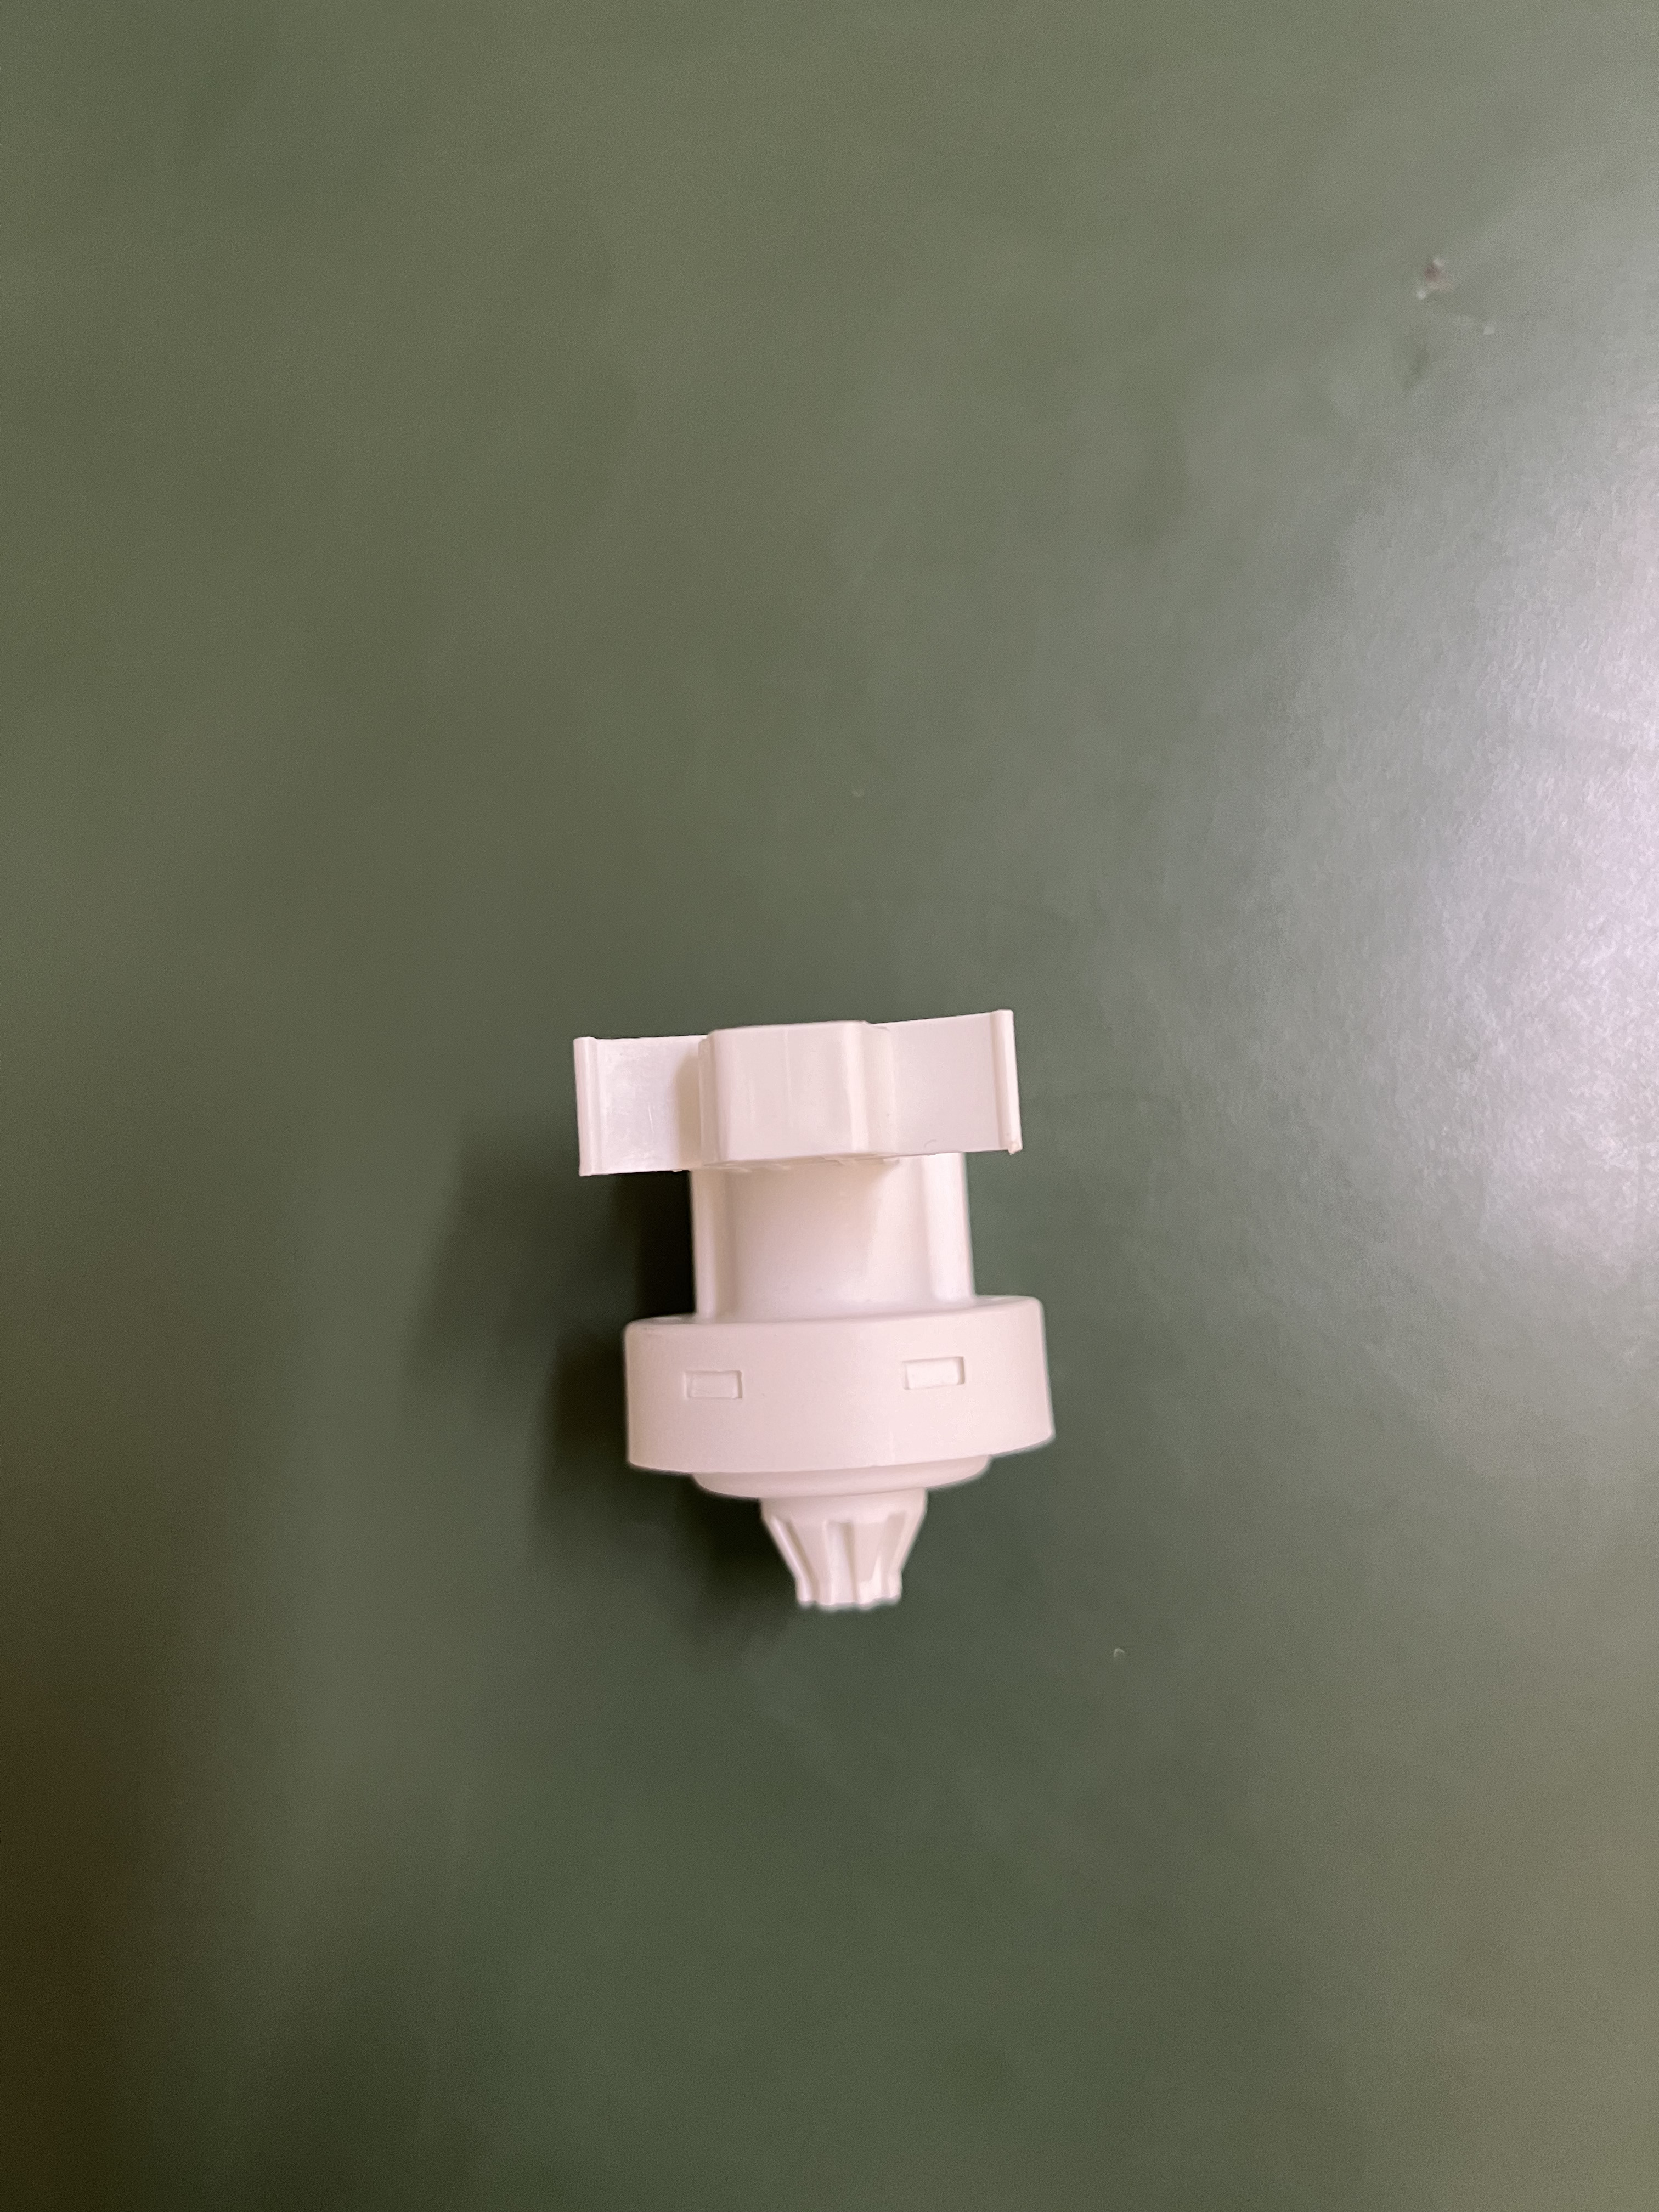pressure_switch_1: (563, 958, 1108, 1642)
